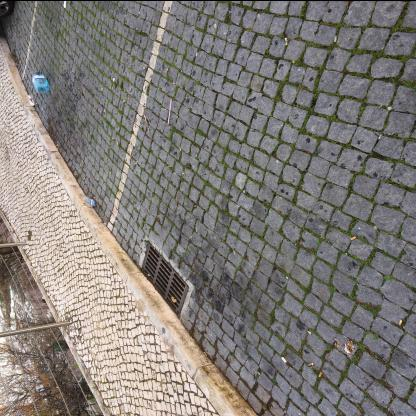plastik: (32, 70, 50, 92), (167, 98, 173, 124), (84, 196, 96, 206)
